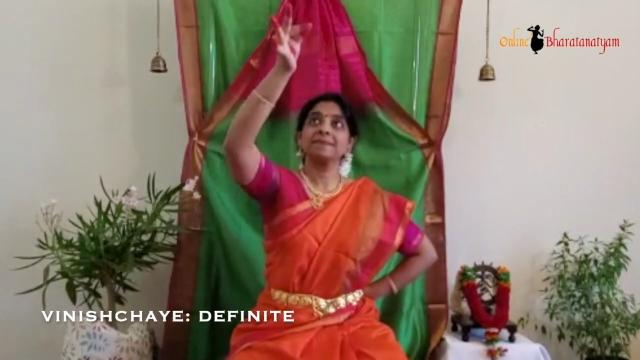hansaasya: (252, 3, 322, 83)
